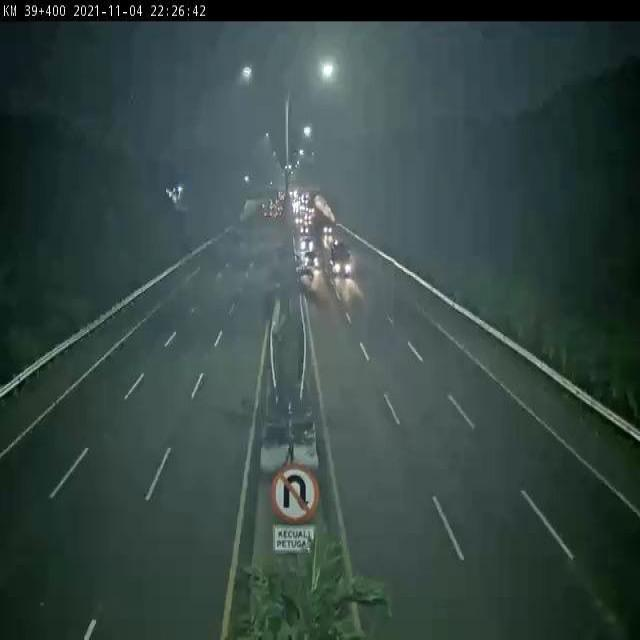car: (332, 244, 360, 279)
